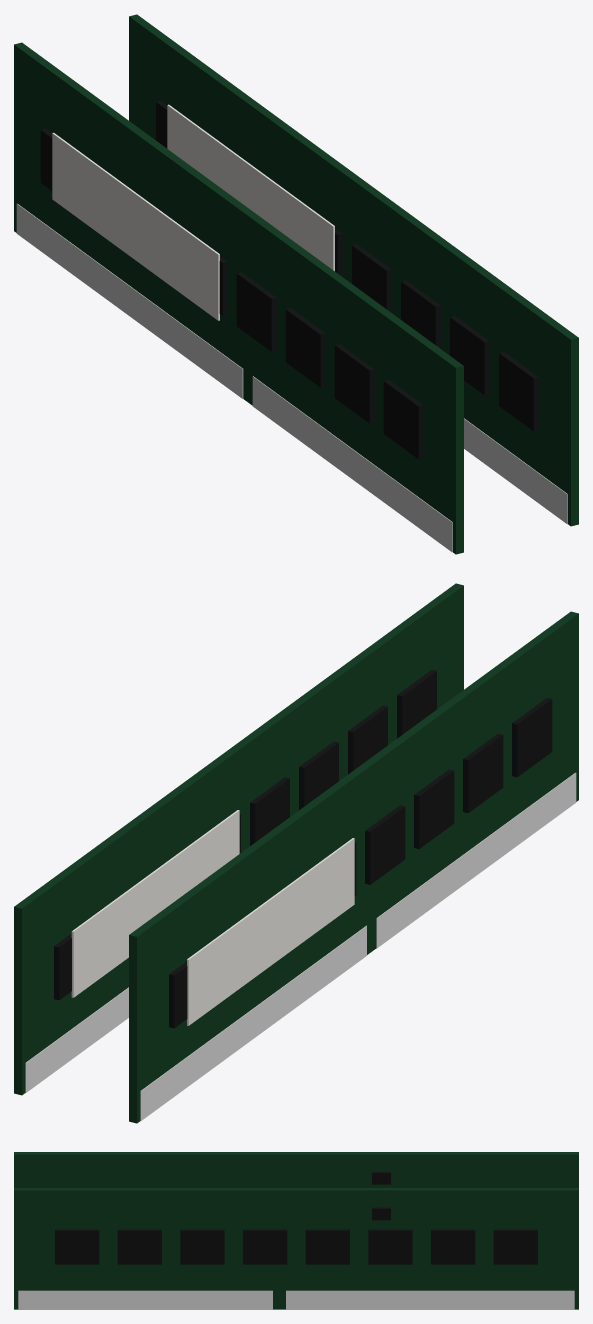
File: hw_ram_ddr3_4gb.glb
The picture shows the model from 3 angles, top to bottom: view 1: azimuth 30°, elevation 25°; view 2: azimuth 150°, elevation 25°; view 3: azimuth 270°, elevation 25°; orthographic projection. The views are drawn at different scales.
Visible parts, largest first — view 1: Stick_1, Body; view 2: Stick_1, Body; view 3: Body, Stick_1.
Boxes of the visible parts, left/top/right/bottom form: Stick_1: left=14, top=42, right=463, bottom=554; Body: left=129, top=14, right=578, bottom=526; Stick_1: left=129, top=611, right=578, bottom=1123; Body: left=14, top=583, right=463, bottom=1095; Body: left=14, top=1188, right=578, bottom=1309; Stick_1: left=14, top=1152, right=578, bottom=1187.
Size of the model in its own units: 0.0234 by 0.031 by 0.133.
